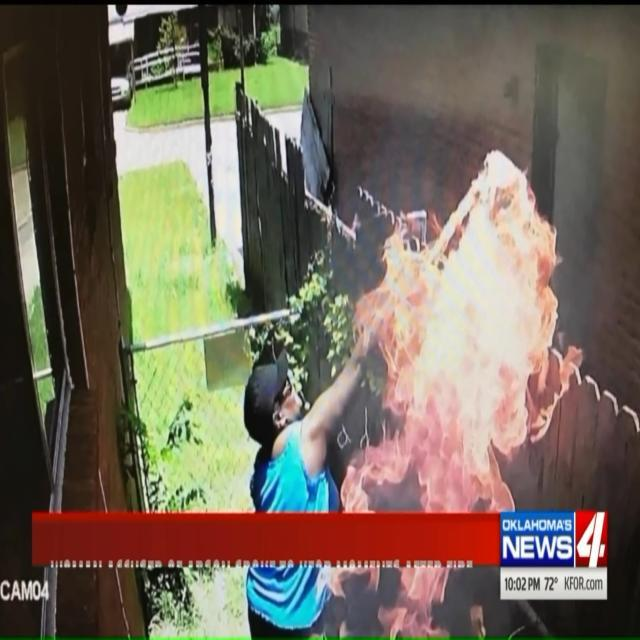Fire: (305, 114, 581, 570)
